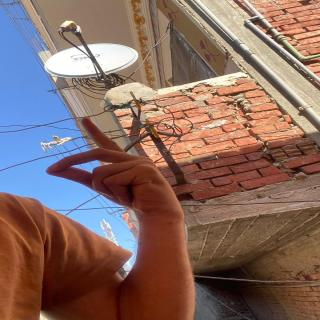TAA: (42, 112, 180, 218)
